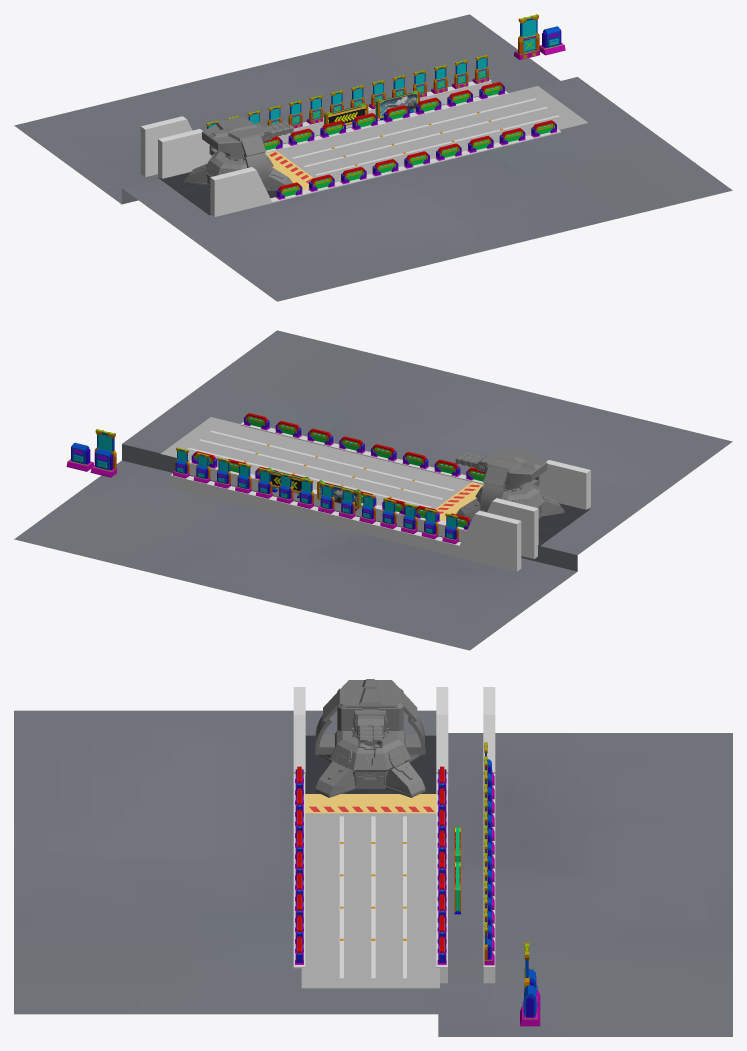
3 views of the same model, one above another, from view 1: azimuth 30°, elevation 25°; view 2: azimuth 150°, elevation 25°; view 3: azimuth 270°, elevation 25° (orthographic). The views are drawn at different scales.
Visible parts, largest first — view 1: BackGround, Line_B, Object254, Box077, Box020, Box047, Box078, Box046, Object011, Box022, Object118, Asphalt_054 (+4 smaller); view 2: BackGround, Line_B, Box046, Object254, Box047, Box077, Box020, Box022, Object011, Box078, Object118, Asphalt_054 (+1 smaller); view 3: BackGround, Line_B, Object254, Object118, Asphalt_054, Box020, Box077, Box046, Box022, Box078, Box047, Plane020 (+3 smaller).
Boxes of the visible parts, <box> form: BackGround: <box>14,14,732,301</box>; Line_B: <box>277,86,587,182</box>; Object254: <box>202,116,293,180</box>; Box077: <box>210,167,271,216</box>; Box020: <box>158,129,211,178</box>; Box047: <box>140,116,192,177</box>; Box078: <box>270,129,561,202</box>; Box046: <box>277,79,491,143</box>; Object011: <box>514,14,539,59</box>; Box022: <box>265,91,508,153</box>; Object118: <box>184,163,292,191</box>; Asphalt_054: <box>265,151,313,190</box>; BackGround: <box>14,330,732,650</box>; Line_B: <box>160,417,471,508</box>; Box046: <box>170,473,460,557</box>; Object254: <box>455,447,547,510</box>; Box047: <box>460,510,521,571</box>; Box077: <box>537,460,590,509</box>; Box020: <box>487,498,538,558</box>; Box022: <box>189,460,466,541</box>; Object011: <box>90,429,116,477</box>; Box078: <box>240,421,483,484</box>; Object118: <box>456,494,564,520</box>; Asphalt_054: <box>435,482,483,521</box>; BackGround: <box>14,710,732,1036</box>; Line_B: <box>301,813,439,988</box>; Object254: <box>315,679,424,771</box>; Object118: <box>315,749,425,797</box>; Asphalt_054: <box>305,794,436,813</box>; Box020: <box>436,687,448,789</box>; Box077: <box>293,687,305,774</box>; Box046: <box>483,774,495,983</box>; Box022: <box>436,774,447,983</box>; Box078: <box>293,774,305,968</box>; Box047: <box>483,687,495,789</box>; Plane020: <box>339,816,343,978</box>.
Bounding box in the file's own units: 4156 × 623 × 4000.
